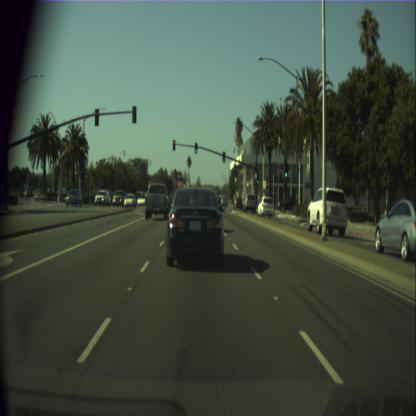Green: (284, 163, 288, 178), (222, 150, 226, 162), (194, 142, 198, 153), (256, 173, 258, 183)
Red: (172, 139, 176, 150)
RedLeft: (80, 168, 83, 180)
Yellow: (256, 186, 258, 190)
